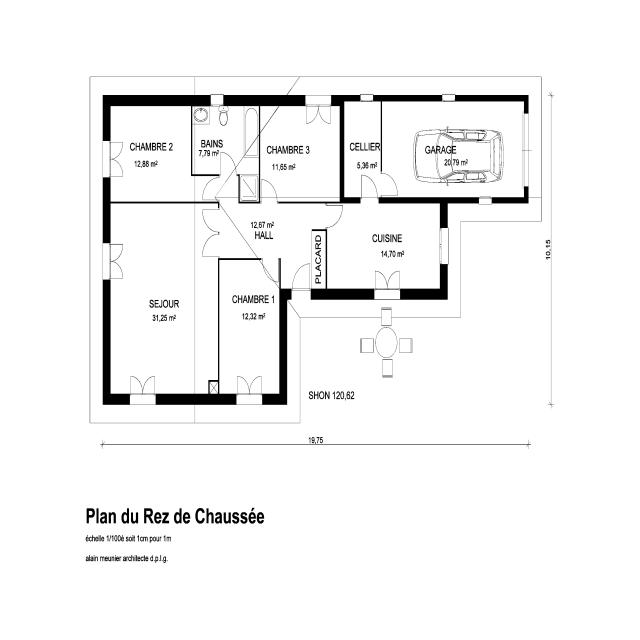door: (193, 107, 259, 174), (195, 211, 225, 252), (120, 375, 168, 398), (297, 102, 341, 124), (286, 266, 318, 295), (101, 143, 131, 172), (228, 376, 270, 396), (363, 272, 412, 289), (354, 176, 384, 201), (214, 153, 240, 175), (320, 204, 347, 225), (254, 180, 282, 200), (258, 260, 284, 280), (376, 174, 403, 193)
window: (101, 245, 132, 277), (522, 113, 534, 183), (436, 230, 454, 262), (472, 196, 499, 208), (352, 93, 380, 103), (435, 94, 461, 104), (204, 94, 229, 104)
zone: (111, 204, 218, 388), (382, 102, 524, 194), (326, 205, 439, 288), (219, 261, 280, 390), (108, 108, 192, 200), (260, 106, 340, 198), (220, 201, 312, 260), (343, 102, 381, 197)
